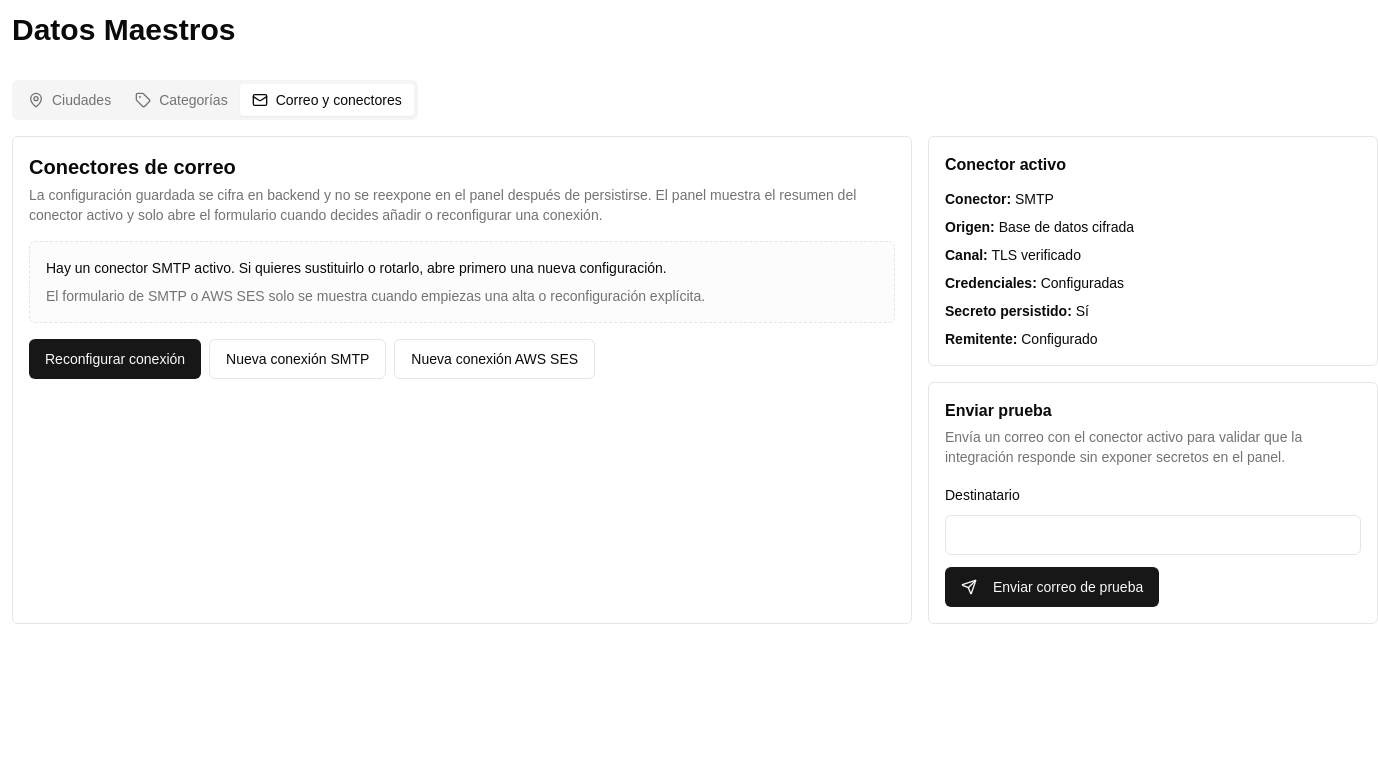
Admin masters page › keeps the connector form hidden until an operator explicitly starts a new setup
This screenshot has width=1378, height=780.
Check: the heading "Conectores de correo" is shown, box [29,156,236,178]
Check: the heading "Conector activo" is shown, box [945,156,1066,173]
Step 1. Click the button "Reconfigurar conexión" → click(115, 359), box [29,339,201,379]
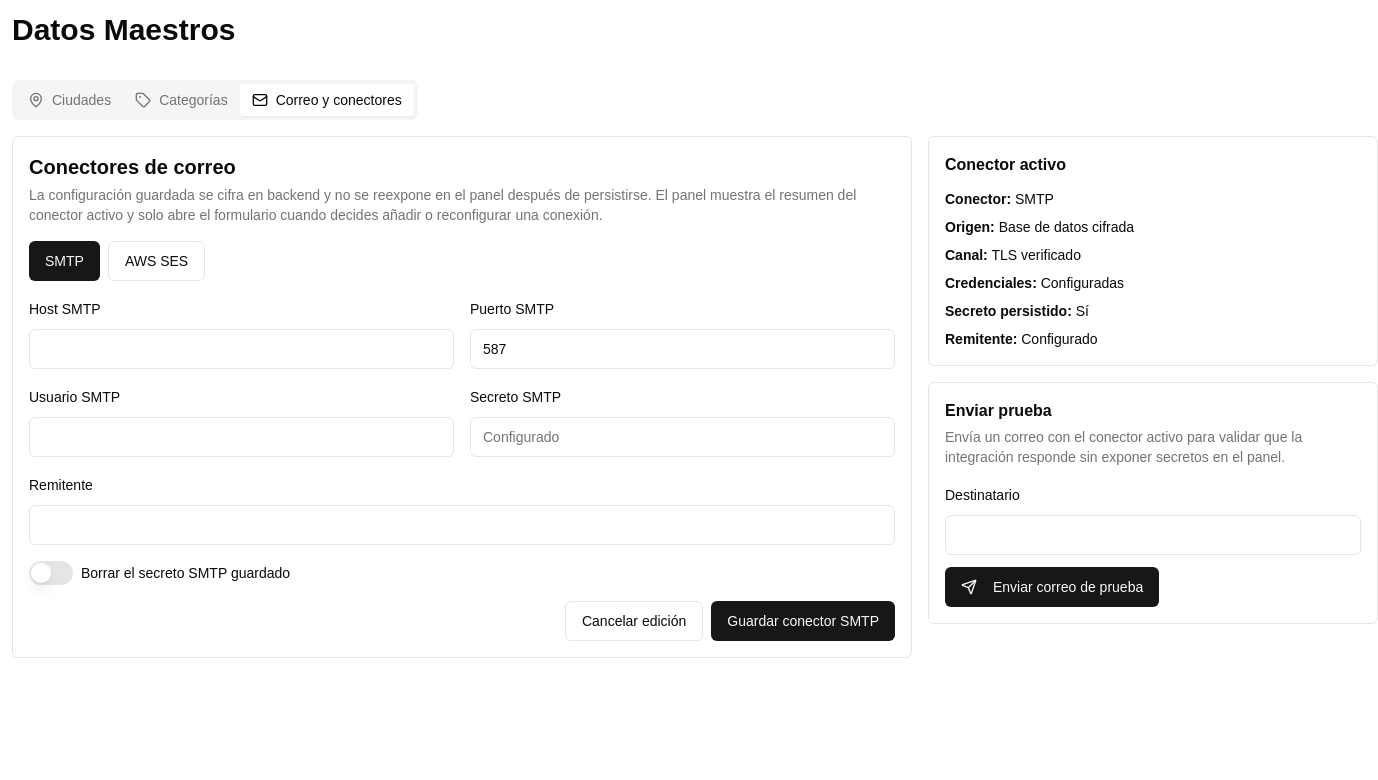
Check: the field labelled "Host SMTP" is shown, box [29,329,454,369]
Step 2. Click the button "Cancelar edición" → click(634, 621), box [565,601,703,641]
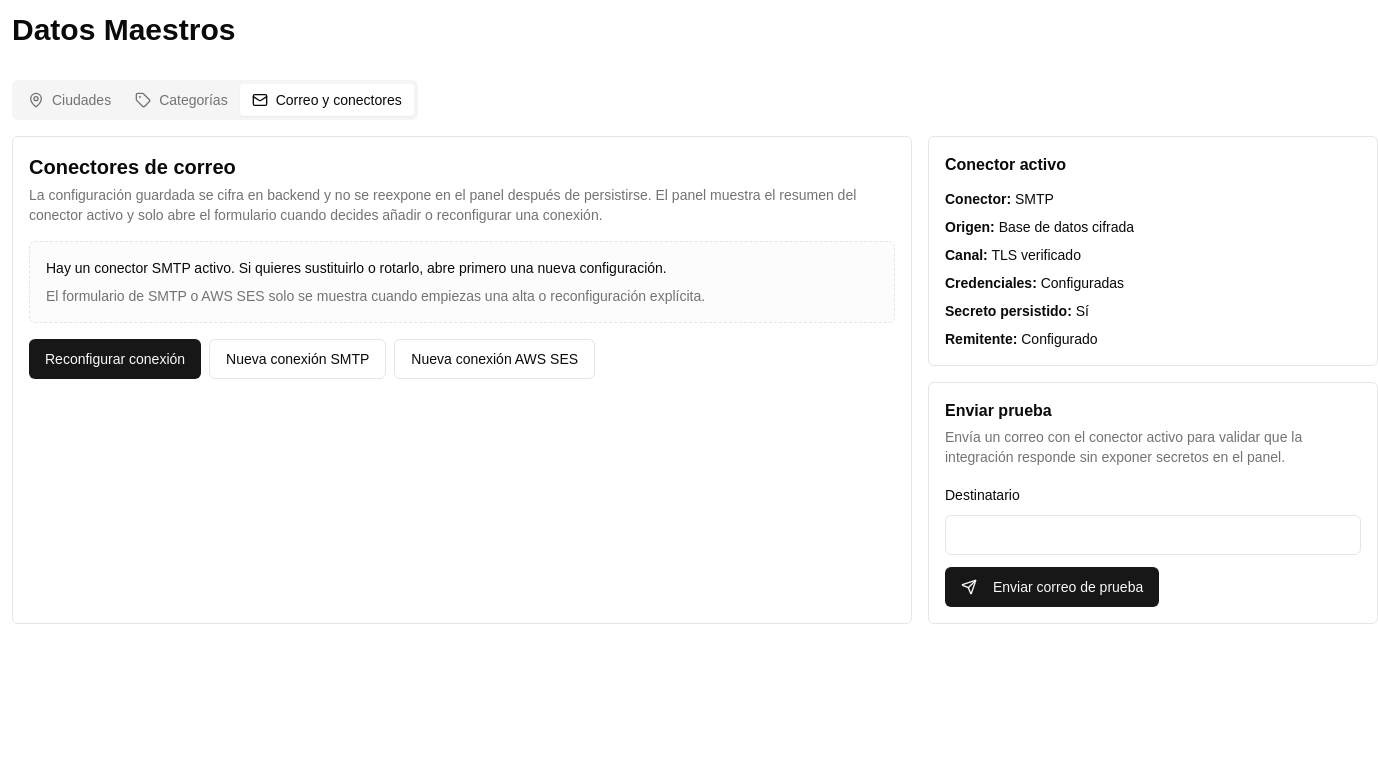
Check: the label labelled "Host SMTP" is gone
